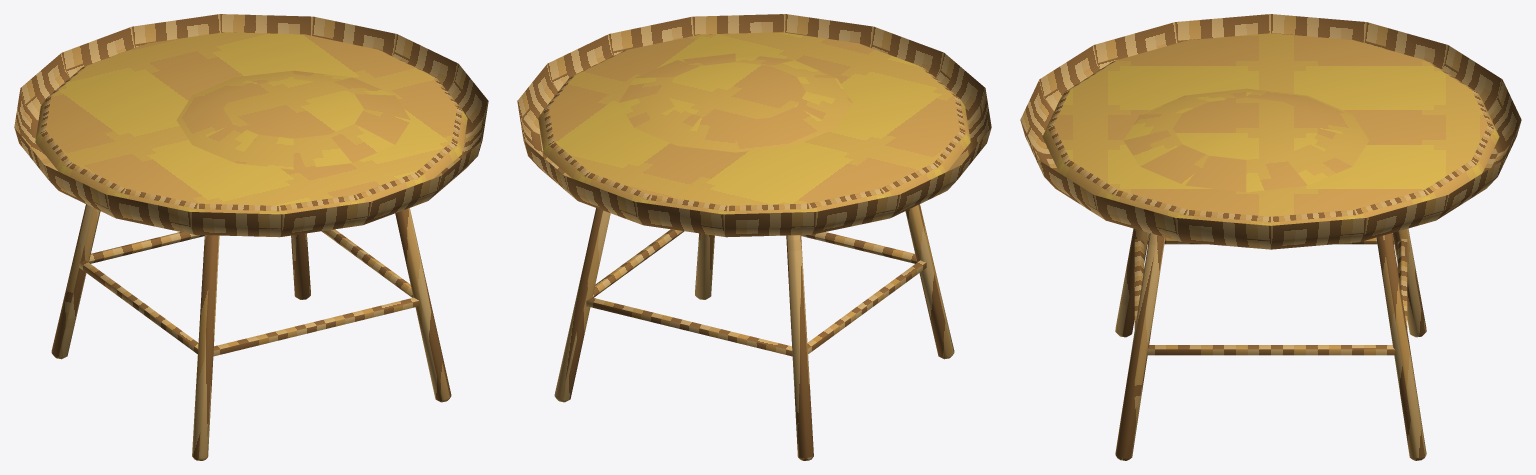
Rendered from cn_drying_tray_2.glb.
3 renders of one model, left to right at view 1: azimuth 30°, elevation 25°; view 2: azimuth 150°, elevation 25°; view 3: azimuth 270°, elevation 25°, orthographic. The views are drawn at different scales.
Visible parts, largest first — view 1: cn_drying_tray_3; view 2: cn_drying_tray_3; view 3: cn_drying_tray_3.
Part boxes in pixels (bbox=[...]): cn_drying_tray_3: bbox=[14, 14, 488, 460]; cn_drying_tray_3: bbox=[517, 14, 991, 460]; cn_drying_tray_3: bbox=[1020, 14, 1521, 460].
Bounding box in the file's own units: 1.35 × 0.8431 × 1.35.
2 materials, 2 textured.
